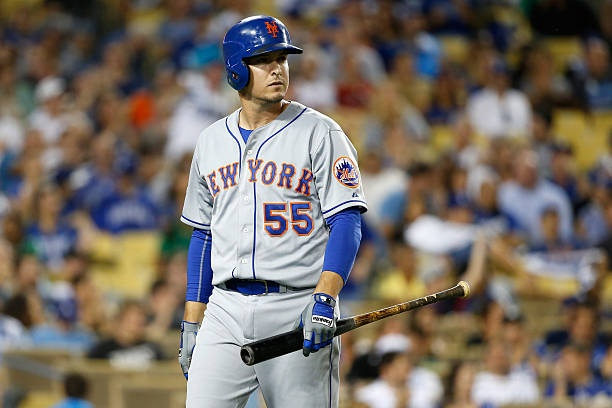bita: (243, 283, 471, 367)
